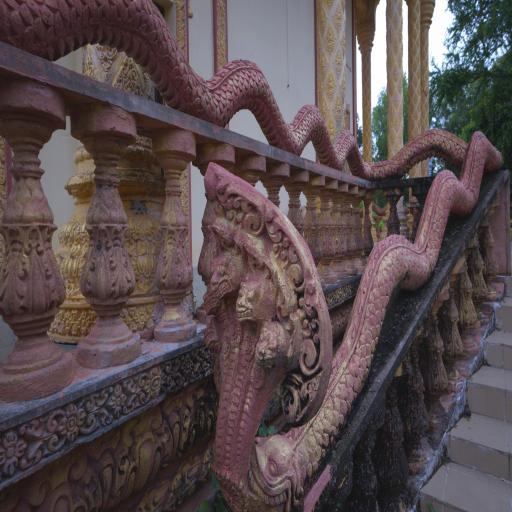hoa: (0, 431, 25, 477), (61, 401, 87, 443), (119, 59, 143, 94), (109, 382, 130, 420), (144, 368, 166, 401), (97, 44, 116, 74), (324, 70, 336, 101), (84, 55, 98, 77), (79, 309, 90, 334), (135, 307, 148, 328), (325, 26, 335, 51), (334, 98, 344, 122), (326, 119, 336, 142), (62, 312, 74, 331), (336, 46, 344, 74), (155, 304, 165, 325), (52, 310, 62, 330), (320, 96, 329, 118), (334, 7, 342, 30), (319, 53, 326, 77), (121, 310, 131, 326), (320, 10, 326, 31), (218, 27, 225, 43), (327, 0, 335, 11)
la: (112, 408, 170, 495), (41, 448, 101, 512), (172, 382, 215, 450), (62, 257, 82, 291), (134, 217, 152, 253), (72, 222, 89, 256), (58, 221, 74, 255), (137, 254, 155, 284), (126, 220, 136, 253)
ran: (193, 188, 312, 500)
